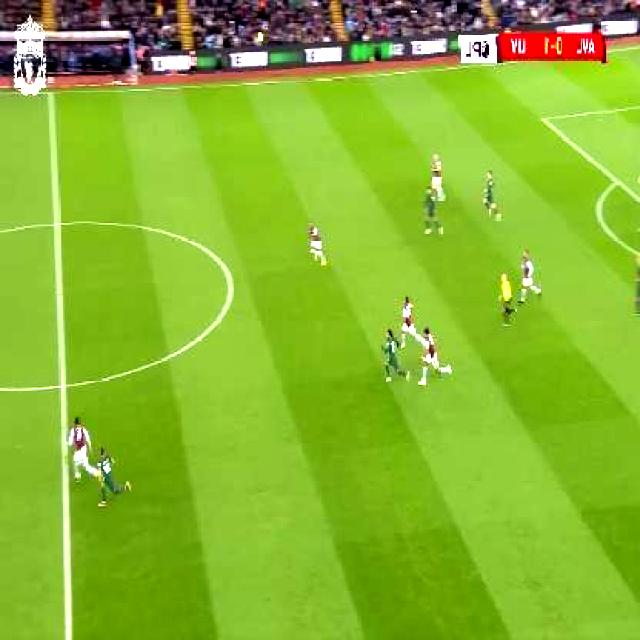bigarea_top_inner: (535, 105, 554, 132)
halfcircle_bottom: (51, 364, 77, 404)
halfcircle_top: (46, 209, 69, 240)
midline_top_intersection: (45, 84, 60, 104)
top_arc_area_intersection: (612, 171, 626, 191)
